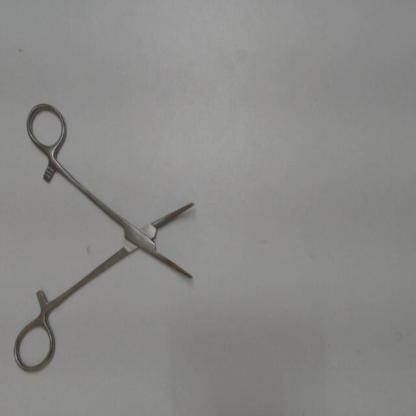Crile Artery Forceps: (12, 92, 216, 382)
